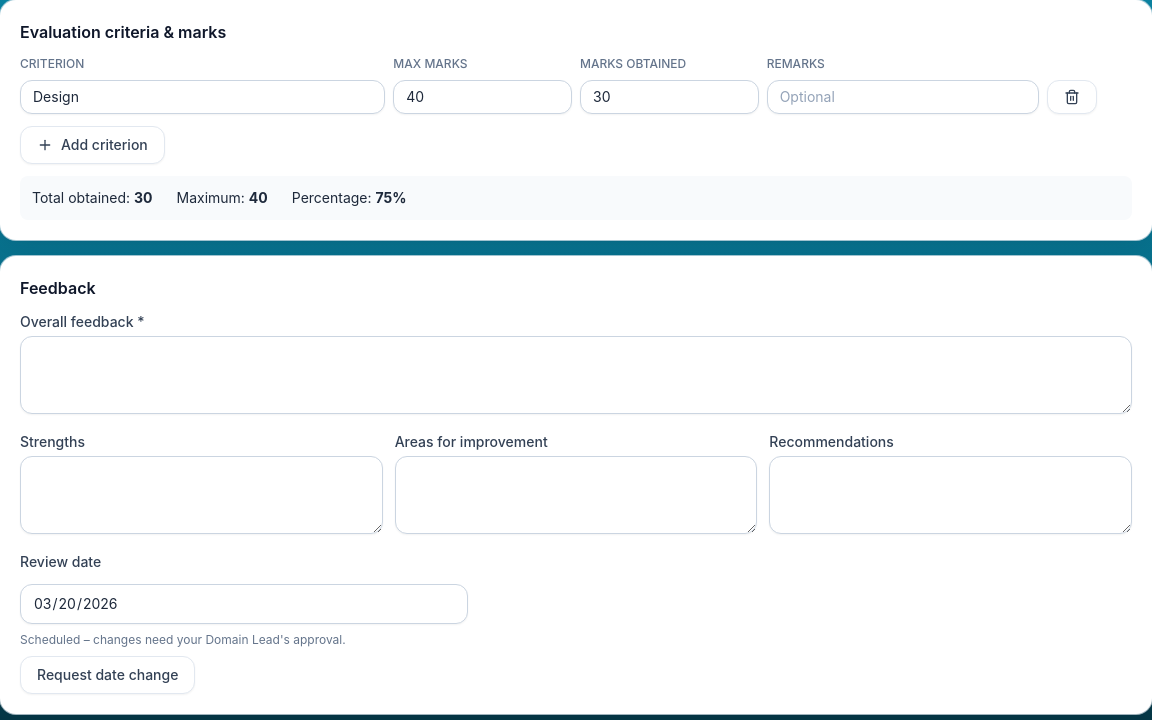
Scenario: mentor: review date field › shows the server message when the request is refused
The width and height of the screenshot is (1152, 720).
Click the button "Request date change" at point(108, 675), box [20,656,195,694]
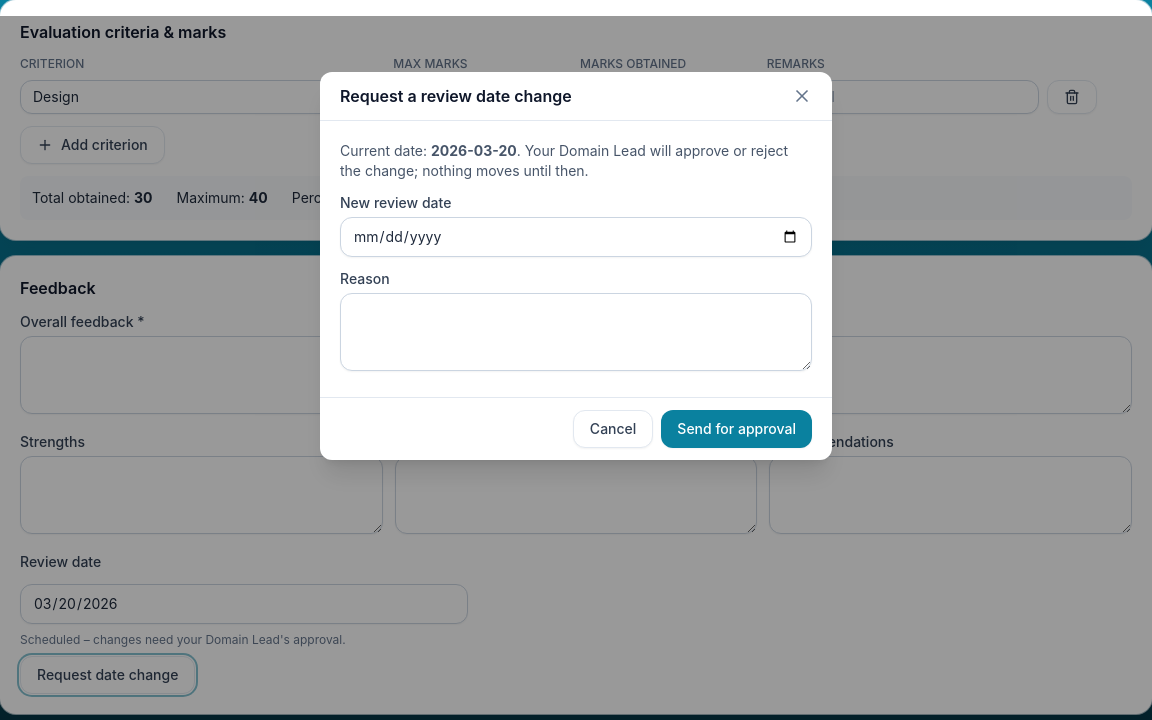
Type "2026-03-27" into the date field labelled "New review date" at point(576, 237), box [340,217,812,257]
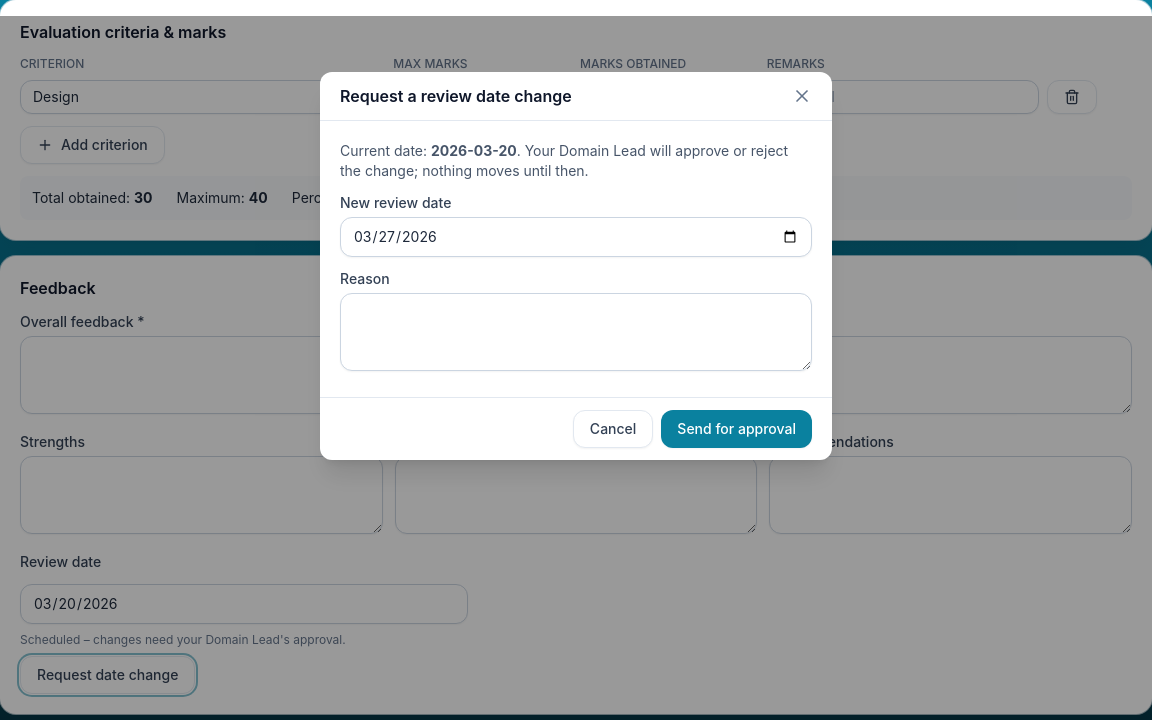
Type "Clash with exams" into the text box labelled "Reason" at point(576, 332), box [340,293,812,371]
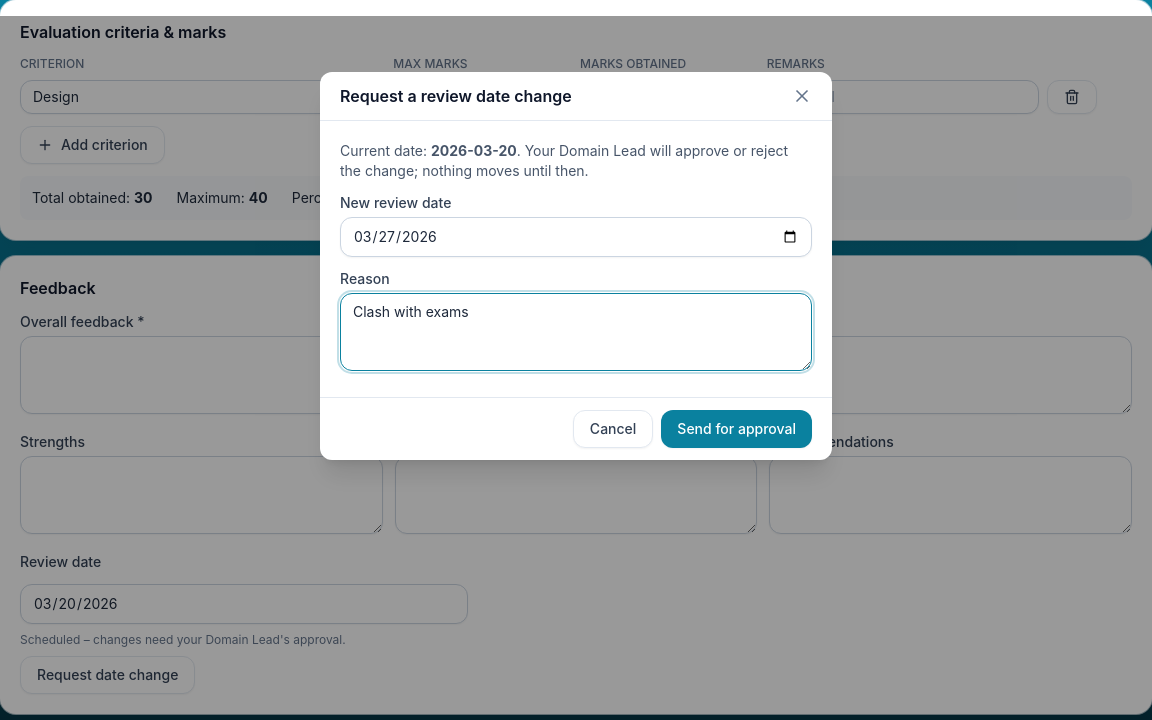
Click the button "Send for approval" at point(737, 429), box [661,410,812,448]
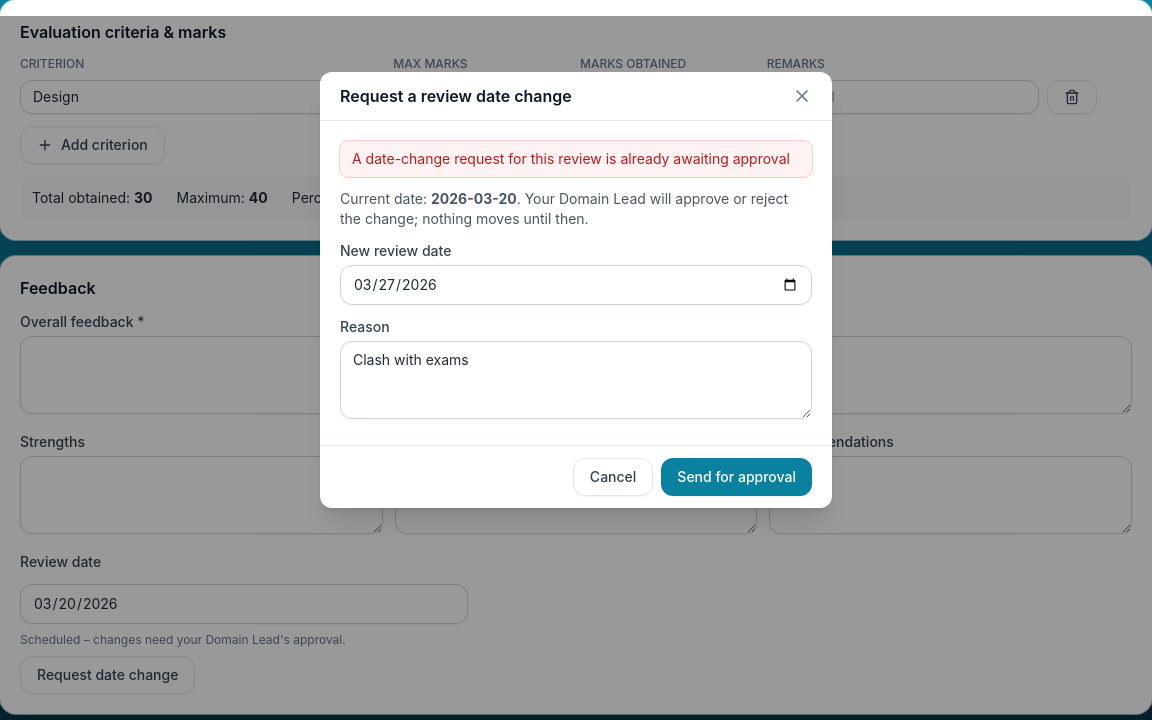
Check: the message shows "already awaiting approval", box [352,150,790,167]
